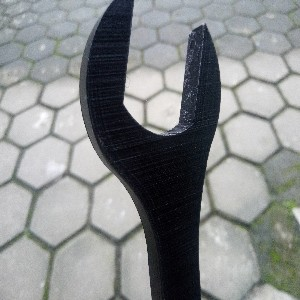spanner: (78, 1, 223, 300)
